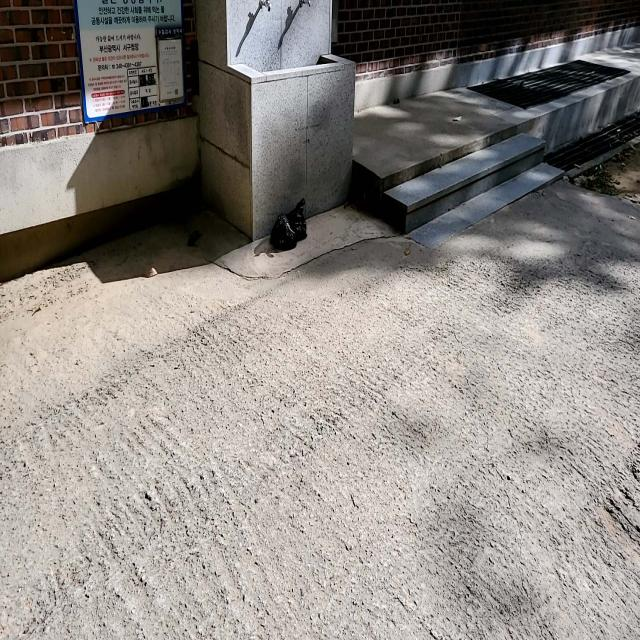garbage bag: (269, 195, 308, 252)
